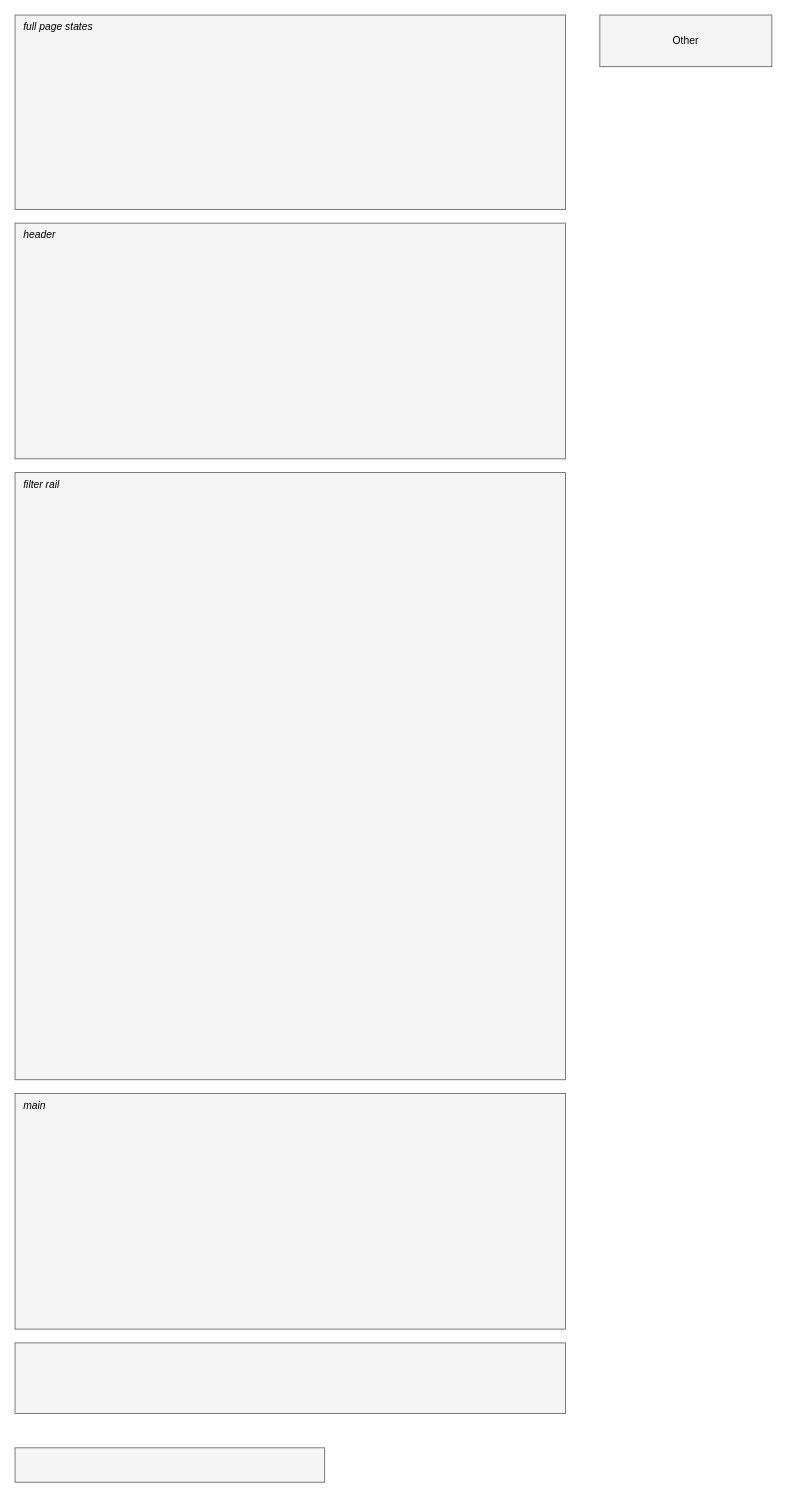
This 787x1497 diagram has some shape labels left out. The centre of each missing label's shape, as x and y in pixels:
"Legend: each box is a region of the screen, its own view holds the shapes" goes at (x=169, y=1464).
"workspace" goes at (x=289, y=1377).
